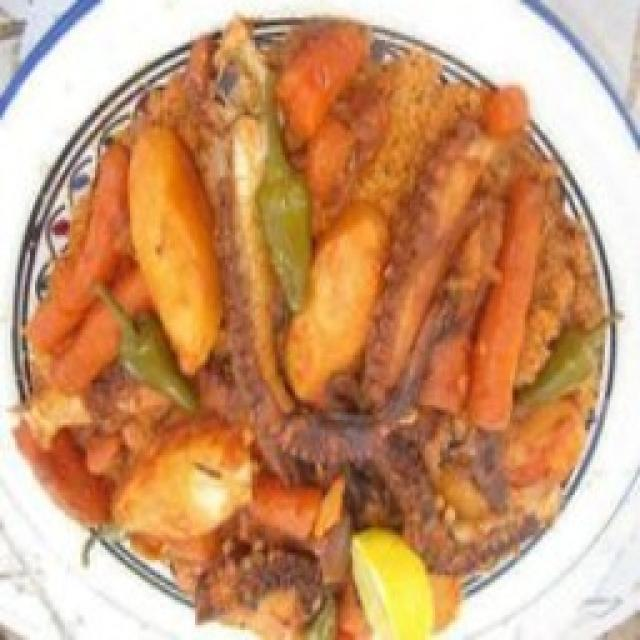Couscous: (8, 0, 615, 640)
